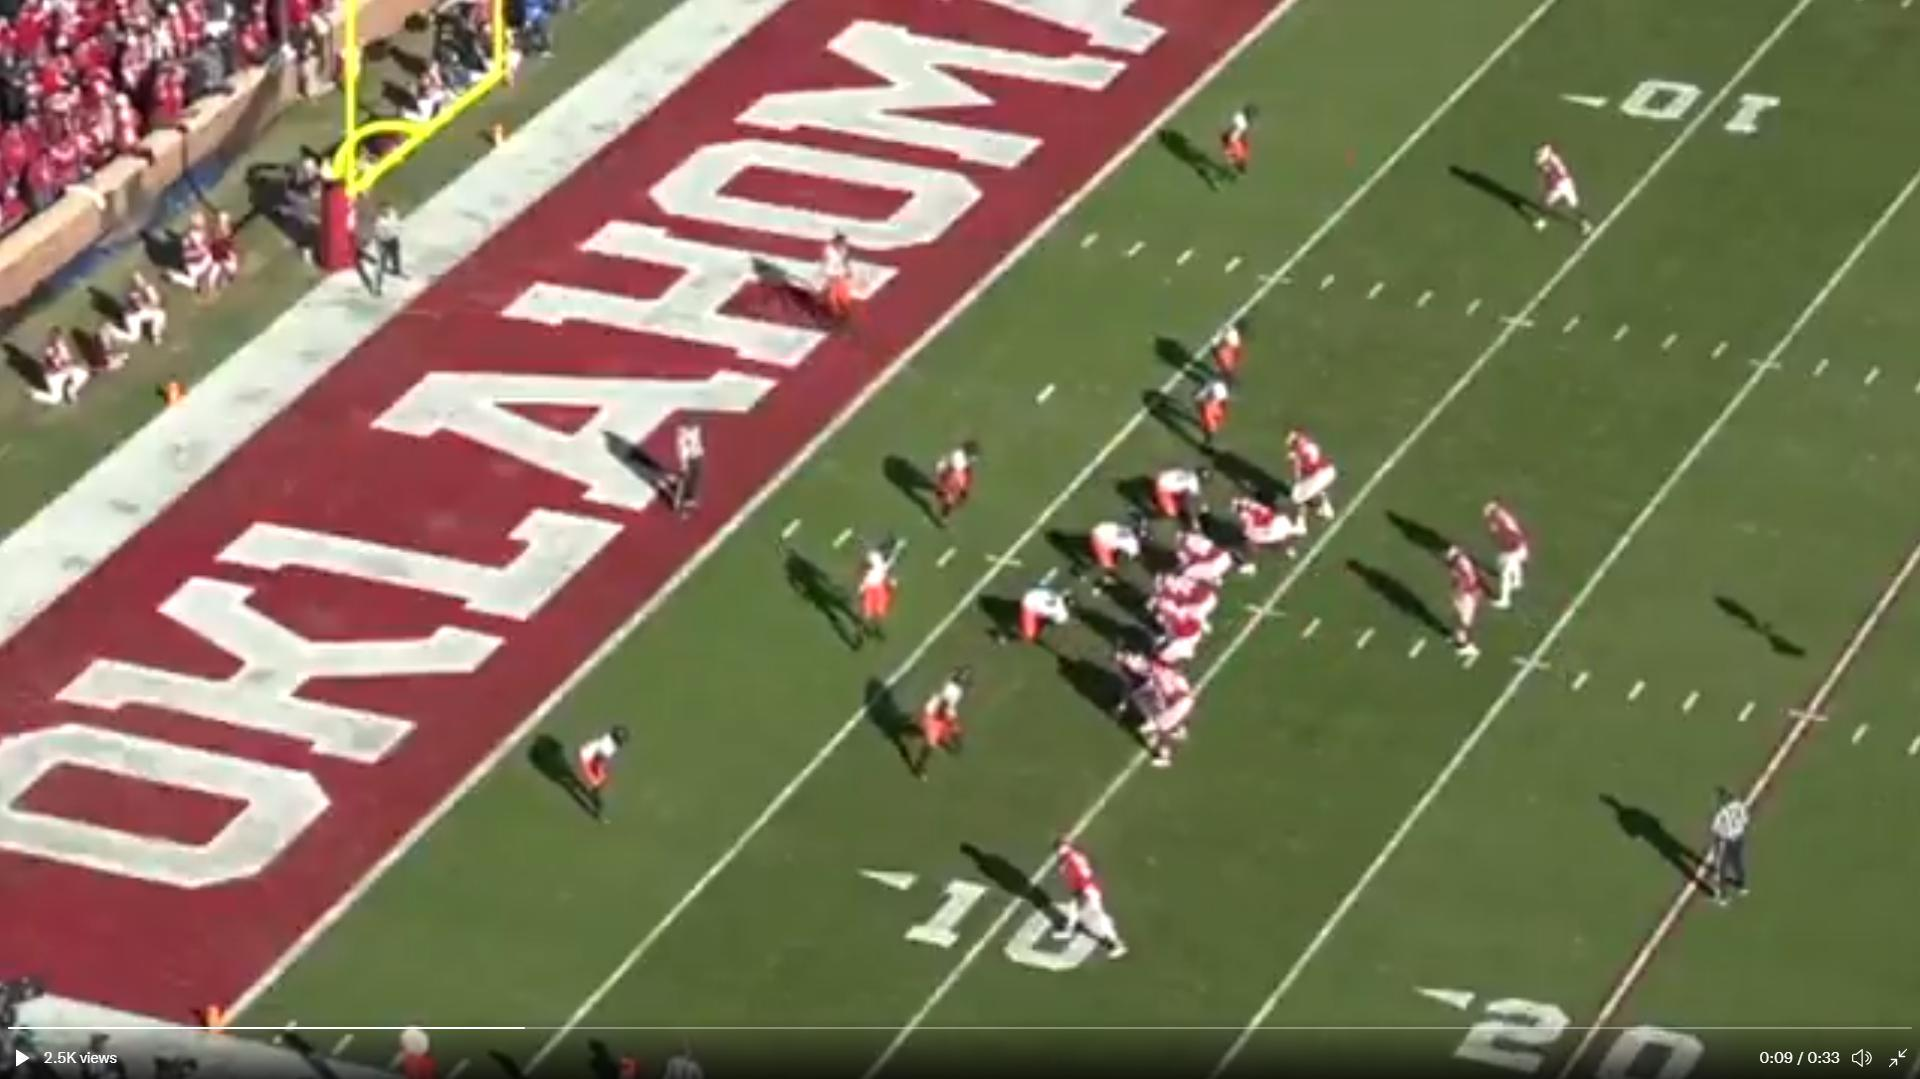defense: (576, 722, 633, 831), (913, 675, 968, 784), (851, 538, 899, 661), (931, 437, 981, 539), (1207, 318, 1258, 418), (1141, 463, 1209, 537), (1189, 361, 1234, 470), (1217, 102, 1265, 198), (822, 228, 862, 338), (1015, 584, 1075, 653), (1084, 517, 1145, 583)
oline: (1146, 598, 1209, 693), (1287, 425, 1344, 529), (1233, 495, 1303, 574), (1149, 569, 1220, 633), (1174, 528, 1233, 575)
qb: (1444, 541, 1490, 665)
ref: (1695, 781, 1760, 915), (352, 193, 421, 309), (655, 422, 705, 521)
skill: (1050, 834, 1130, 966), (1528, 139, 1600, 241), (1481, 492, 1534, 612), (1145, 665, 1193, 778), (1110, 649, 1159, 722)
